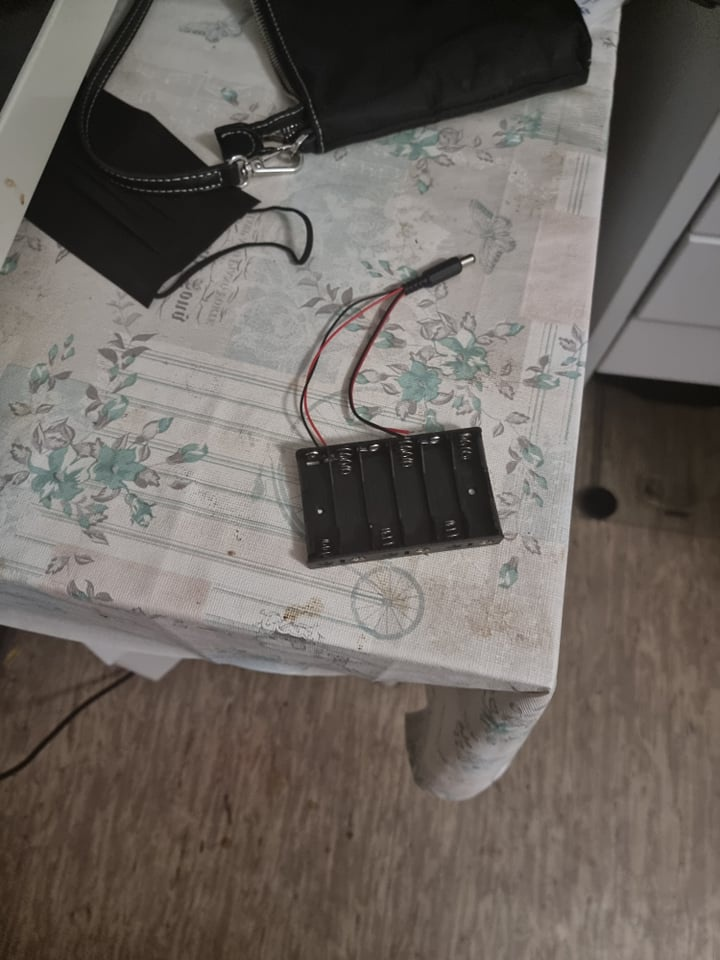BATTERY BOX: (296, 420, 504, 575)
